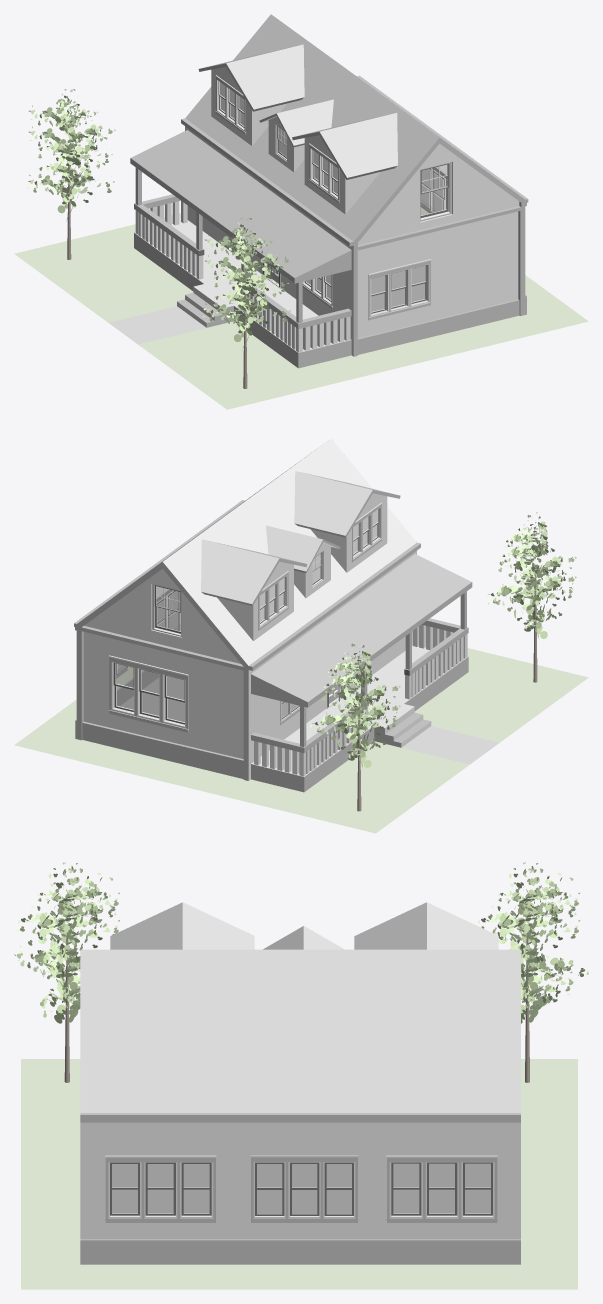
File: sp-prop-sf-2L-62ft.glb
3 renders of one model, top to bottom at view 1: azimuth 30°, elevation 25°; view 2: azimuth 150°, elevation 25°; view 3: azimuth 270°, elevation 25°, orthographic. The views are drawn at different scales.
Visible parts, largest first — view 1: 3DGeom-2, 3DGeom-1, 3DGeom-73, 3DGeom-3, 3DGeom-4, 3DGeom-1187, 3DGeom-12, 3DGeom-5, 3DGeom-629; view 2: 3DGeom-2, 3DGeom-1, 3DGeom-3, 3DGeom-73, 3DGeom-1187, 3DGeom-12, 3DGeom-5, 3DGeom-629; view 3: 3DGeom-4, 3DGeom-73, 3DGeom-2, 3DGeom-1, 3DGeom-12, 3DGeom-1187, 3DGeom-3, 3DGeom-5, 3DGeom-629.
Part boxes in pixels (<box>): 3DGeom-2: <box>134,66,519,356</box>; 3DGeom-1: <box>130,63,528,368</box>; 3DGeom-73: <box>14,199,588,409</box>; 3DGeom-3: <box>108,14,439,344</box>; 3DGeom-4: <box>226,29,508,187</box>; 3DGeom-1187: <box>26,89,291,349</box>; 3DGeom-12: <box>220,82,447,311</box>; 3DGeom-5: <box>198,81,449,313</box>; 3DGeom-629: <box>67,149,247,388</box>; 3DGeom-2: <box>84,493,467,780</box>; 3DGeom-1: <box>74,490,472,792</box>; 3DGeom-3: <box>163,438,499,764</box>; 3DGeom-73: <box>14,623,588,833</box>; 3DGeom-1187: <box>309,512,576,767</box>; 3DGeom-12: <box>116,510,377,721</box>; 3DGeom-5: <box>113,509,409,724</box>; 3DGeom-629: <box>357,567,537,811</box>; 3DGeom-4: <box>80,902,520,1112</box>; 3DGeom-73: <box>21,1059,577,1289</box>; 3DGeom-2: <box>80,1122,520,1239</box>; 3DGeom-1: <box>80,1113,520,1264</box>; 3DGeom-12: <box>112,1163,490,1213</box>; 3DGeom-1187: <box>14,862,588,1023</box>; 3DGeom-3: <box>182,902,498,949</box>; 3DGeom-5: <box>110,1162,492,1215</box>; 3DGeom-629: <box>64,933,529,1082</box>.
Size of the model in its own units: 18.44 by 9.66 by 19.42.
